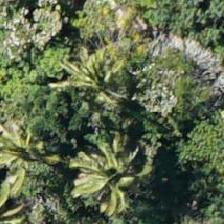coconut_tree: (48, 35, 138, 125), (0, 108, 59, 198)
